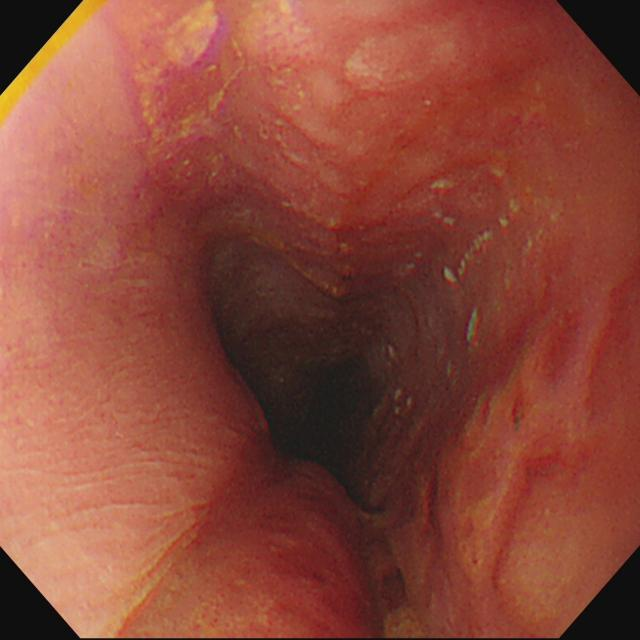A: (501, 268, 639, 426), (255, 173, 415, 302), (355, 462, 454, 638), (492, 434, 596, 590)
E: (291, 361, 365, 454)
J: (139, 2, 315, 159), (347, 26, 441, 96), (442, 228, 495, 290), (466, 306, 483, 348), (396, 389, 414, 417), (432, 180, 459, 196), (433, 213, 458, 227)
